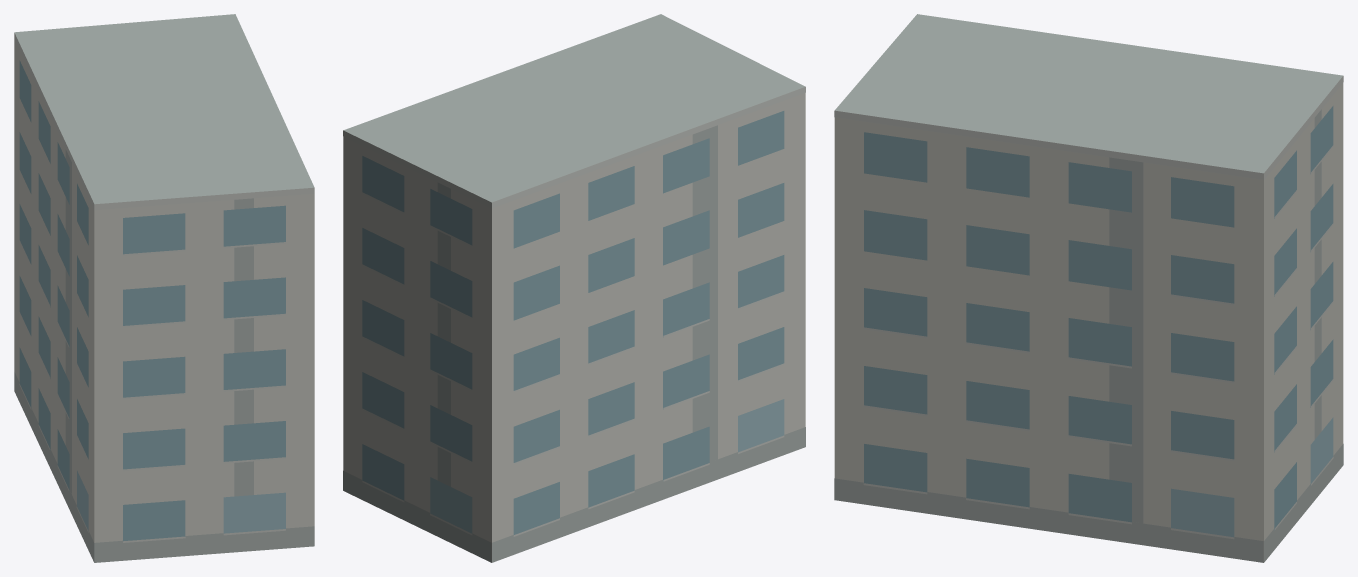
File: survey-upis-32888518.glb
The picture shows the model from 3 angles, left to right: view 1: azimuth 30°, elevation 25°; view 2: azimuth 150°, elevation 25°; view 3: azimuth 270°, elevation 25°; orthographic projection. The views are drawn at different scales.
Visible parts, largest first — view 1: survey-upis-32888518.tmp; view 2: survey-upis-32888518.tmp; view 3: survey-upis-32888518.tmp.
Part boxes in pixels (x1,y1,x2,y2): survey-upis-32888518.tmp: (14,14,314,562); survey-upis-32888518.tmp: (343,14,805,562); survey-upis-32888518.tmp: (834,14,1343,562).
Size of the model in its own units: 12.56 by 14.3 by 16.94.
